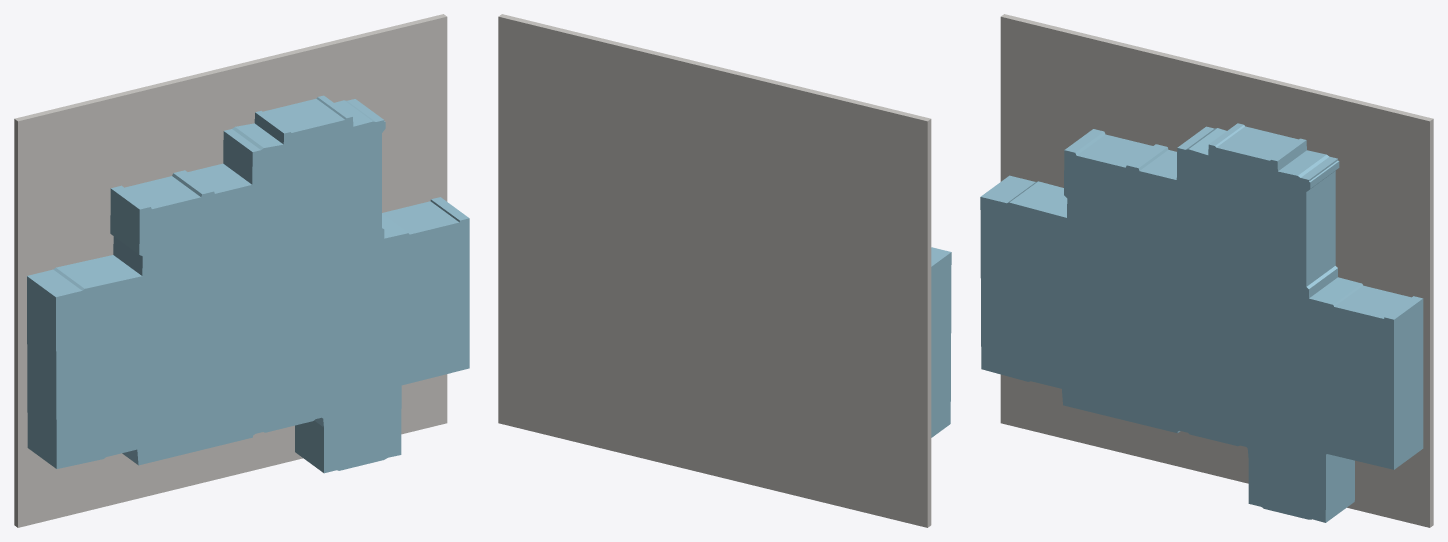
3 renders of one model, left to right at view 1: azimuth 30°, elevation 25°; view 2: azimuth 150°, elevation 25°; view 3: azimuth 330°, elevation 25°, orthographic.
Visible parts, largest first — view 1: world; view 2: world; view 3: world.
Part boxes in pixels (x1,y1,x2,y2): world: [14, 14, 469, 527]; world: [498, 14, 951, 527]; world: [980, 14, 1433, 527].
Size of the model in its own units: 10.23 by 9.26 by 1.35.
